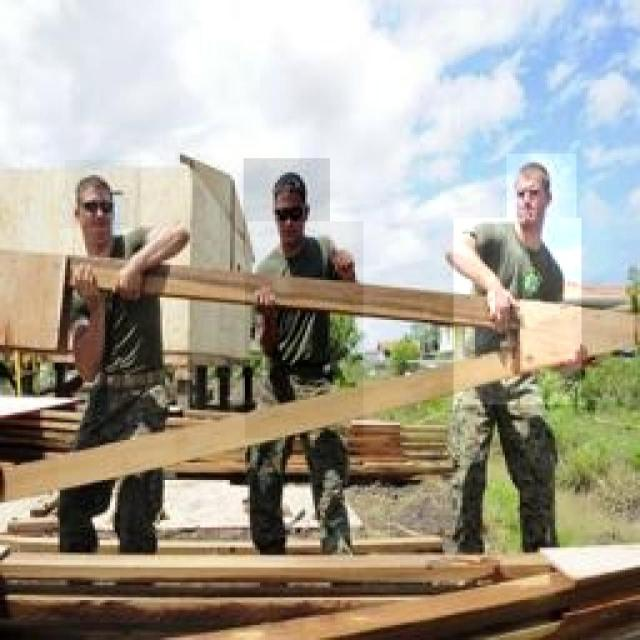Helmet: (58, 228, 176, 532), (245, 222, 363, 438), (454, 219, 582, 405), (244, 158, 330, 257), (507, 154, 577, 252), (65, 160, 141, 248)
